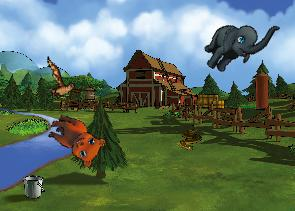bear: (40, 111, 109, 170)
eagle: (31, 56, 89, 109)
elephant: (197, 0, 280, 88)
